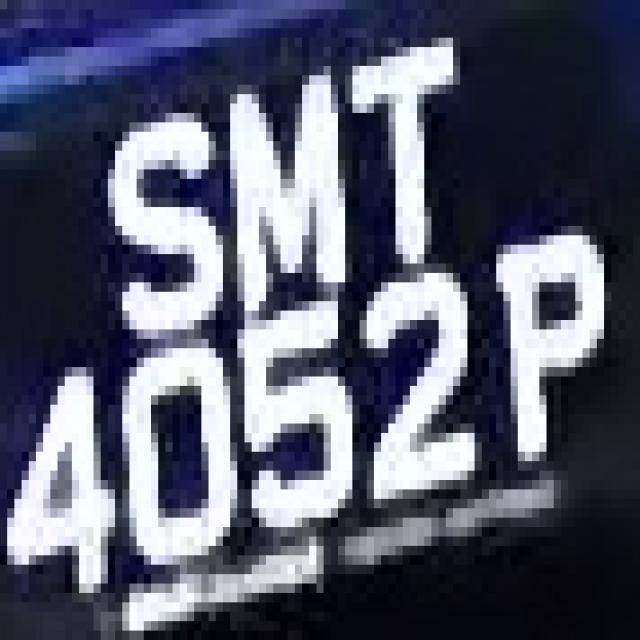0: (108, 339, 237, 555)
2: (367, 245, 503, 508)
4: (0, 329, 129, 639)
5: (237, 292, 381, 546)
M: (208, 56, 366, 292)
P: (489, 198, 618, 480)
S: (79, 56, 230, 348)
T: (316, 19, 474, 245)
